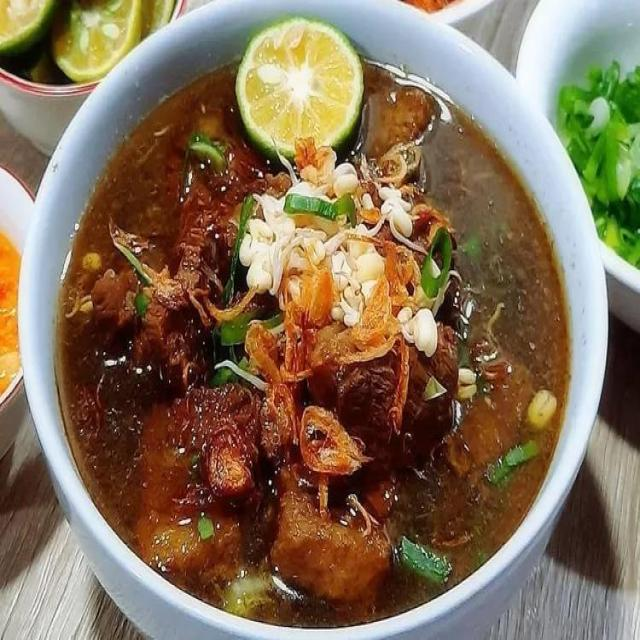Rawon: (60, 63, 578, 628)
